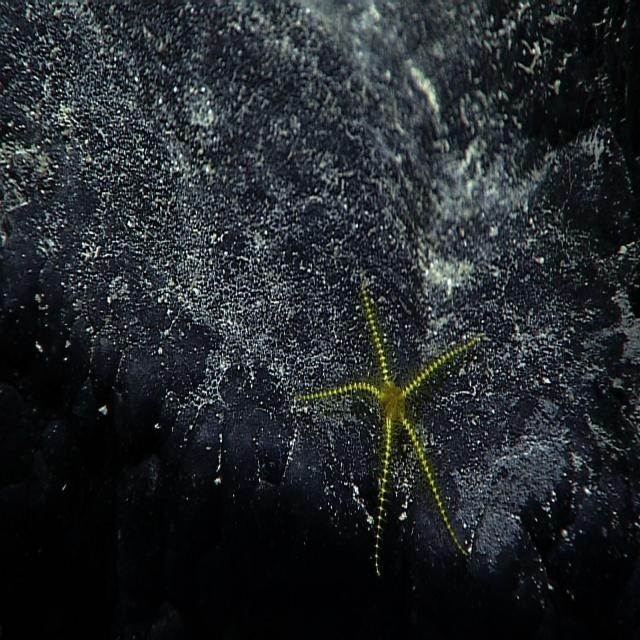Brittle Star: (288, 270, 490, 585)
